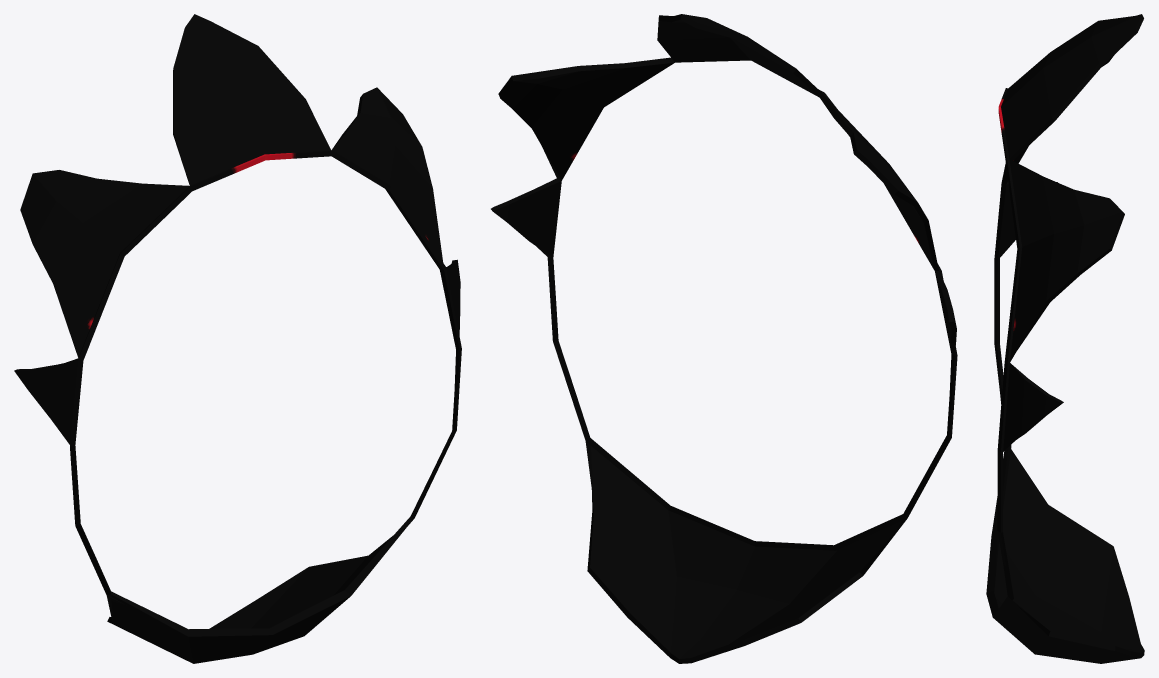
The model's file is Roundcube.003.fbx.
The picture shows the model from 3 angles, left to right: view 1: azimuth 30°, elevation 25°; view 2: azimuth 150°, elevation 25°; view 3: azimuth 270°, elevation 25°; orthographic projection. The views are drawn at different scales.
Visible parts, largest first — view 1: Roundcube.003_Baked; view 2: Roundcube.003_Baked; view 3: Roundcube.003_Baked.
Part boxes in pixels (x1,y1,x2,y2): Roundcube.003_Baked: (14,14,461,663); Roundcube.003_Baked: (491,14,957,663); Roundcube.003_Baked: (986,14,1144,663).
Bounding box in the file's own units: 190 × 255 × 57.02.
Materials: 1 (1 with a texture image).
